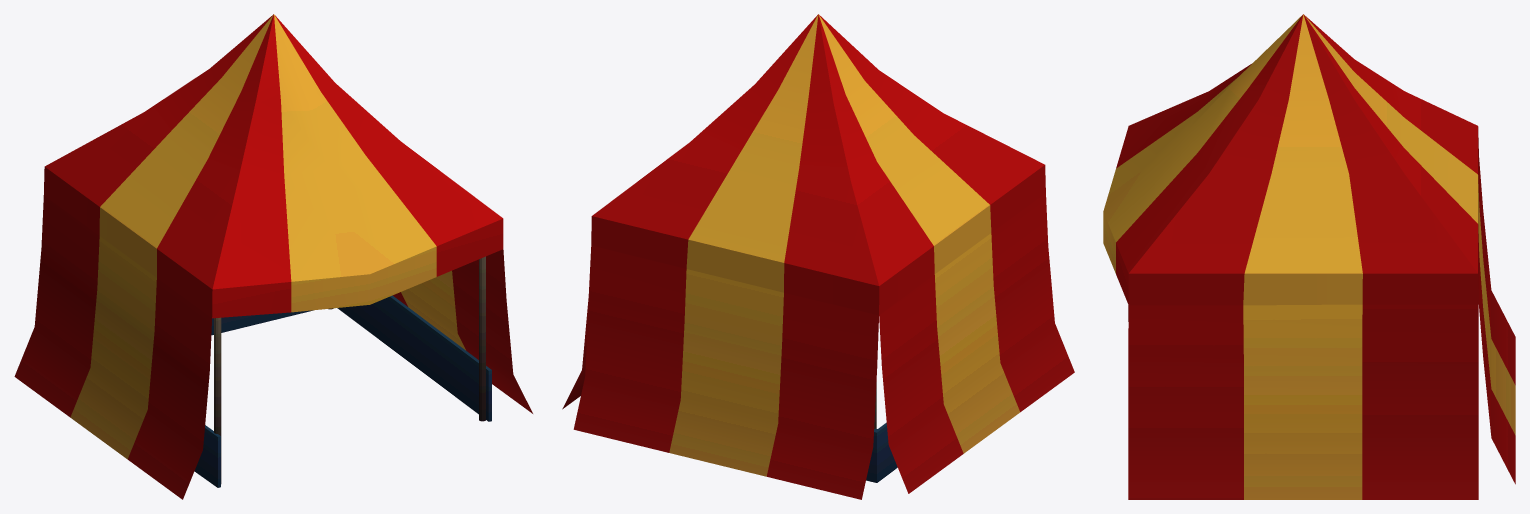
Rendered from SM_Booth (1).fbx.
The picture shows the model from 3 angles, left to right: view 1: azimuth 30°, elevation 25°; view 2: azimuth 150°, elevation 25°; view 3: azimuth 270°, elevation 25°; orthographic projection. The views are drawn at different scales.
Parts seen in each view (by area): view 1: polySurface37; view 2: polySurface37; view 3: polySurface37.
Part boxes in pixels (x1,y1,x2,y2): polySurface37: [14, 14, 532, 499]; polySurface37: [562, 14, 1074, 499]; polySurface37: [1103, 14, 1515, 499].
Bounding box in the file's own units: 373 × 388 × 365.
